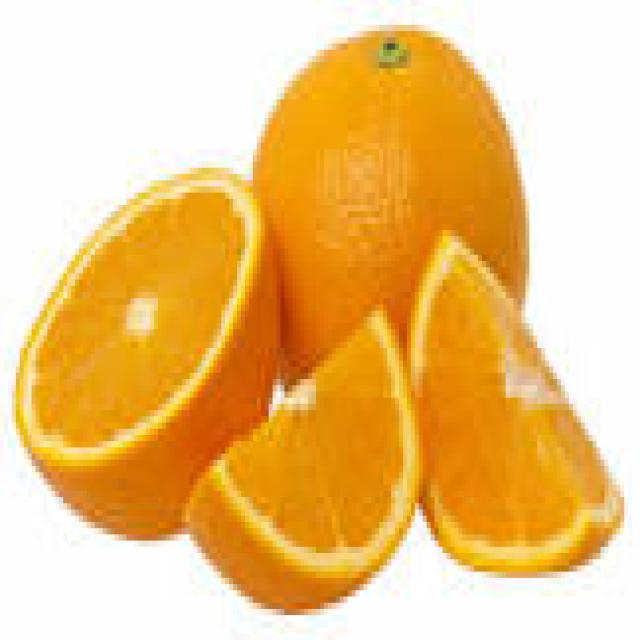orange: (255, 31, 528, 381), (18, 169, 280, 531), (410, 234, 622, 570), (189, 309, 421, 606)
